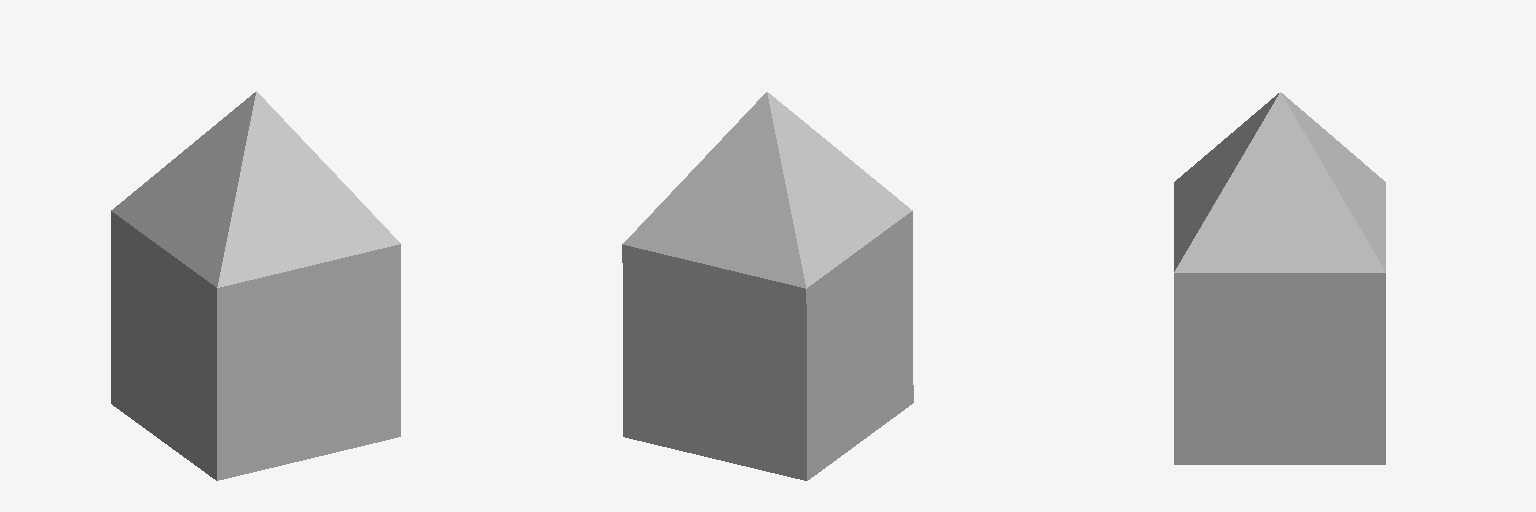
File: ElongatedSquarePyramid.obj
3 renders of one model, left to right at view 1: azimuth 30°, elevation 25°; view 2: azimuth 150°, elevation 25°; view 3: azimuth 270°, elevation 25°, orthographic.
Visible parts, largest first — view 1: ElongatedSquarePyramid; view 2: ElongatedSquarePyramid; view 3: ElongatedSquarePyramid.
Part boxes in pixels (left/top/right/bottom): ElongatedSquarePyramid: left=111, top=91, right=400, bottom=480; ElongatedSquarePyramid: left=622, top=92, right=913, bottom=480; ElongatedSquarePyramid: left=1174, top=92, right=1385, bottom=464.
Bounding box in the file's own units: 0.7528 × 1.28 × 0.7516.